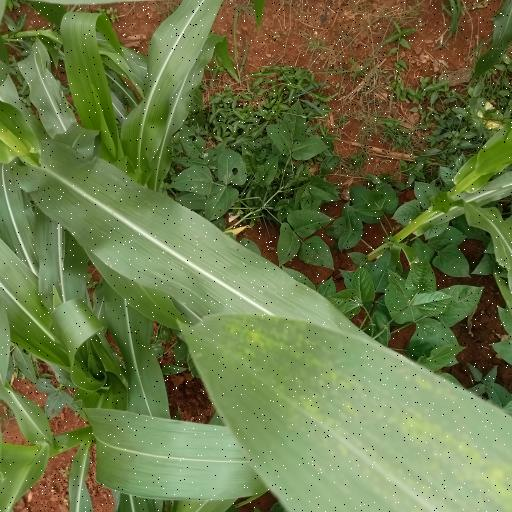Corn_Brown_Spots: (173, 314, 512, 512)
